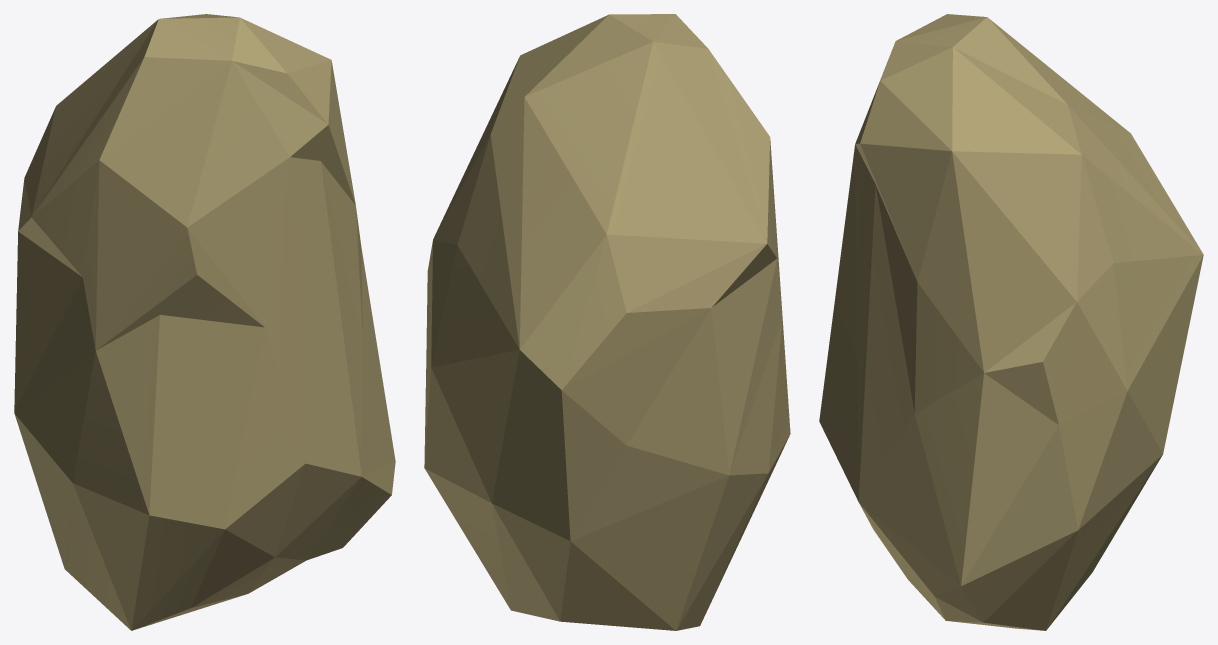
File: SM_small_rock_33.fbx
3 renders of one model, left to right at view 1: azimuth 30°, elevation 25°; view 2: azimuth 150°, elevation 25°; view 3: azimuth 270°, elevation 25°, orthographic. The views are drawn at different scales.
Parts seen in each view (by area): view 1: small_rock_33; view 2: small_rock_33; view 3: small_rock_33.
Part boxes in pixels (x1,y1,x2,y2): small_rock_33: [14, 14, 395, 630]; small_rock_33: [424, 14, 790, 630]; small_rock_33: [819, 14, 1203, 630].
Size of the model in its own units: 94.31 by 156 by 95.28.
